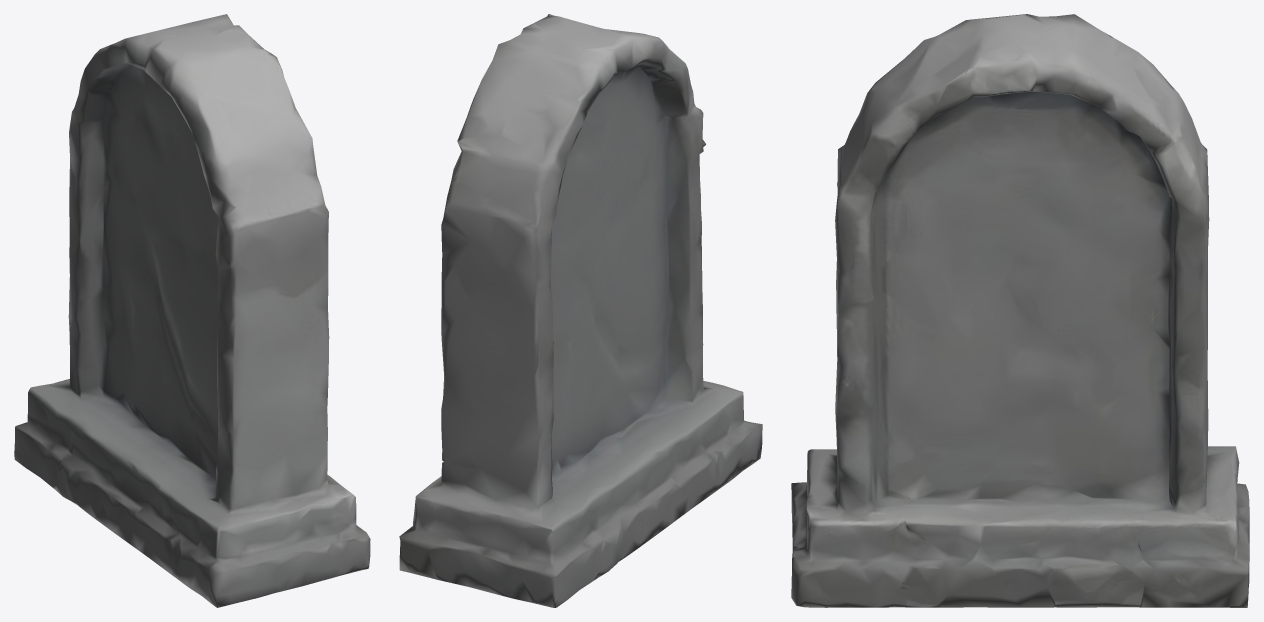
File: tombstone.glb
3 views of the same model, side by side, from view 1: azimuth 30°, elevation 25°; view 2: azimuth 150°, elevation 25°; view 3: azimuth 270°, elevation 25° (orthographic). The views are drawn at different scales.
Visible parts, largest first — view 1: tripo_node_c069572d-8ca7-4a8e-a1c8-4a0e09f108d4; view 2: tripo_node_c069572d-8ca7-4a8e-a1c8-4a0e09f108d4; view 3: tripo_node_c069572d-8ca7-4a8e-a1c8-4a0e09f108d4.
Part boxes in pixels (bbox=[...]): tripo_node_c069572d-8ca7-4a8e-a1c8-4a0e09f108d4: bbox=[14, 14, 370, 607]; tripo_node_c069572d-8ca7-4a8e-a1c8-4a0e09f108d4: bbox=[399, 14, 762, 607]; tripo_node_c069572d-8ca7-4a8e-a1c8-4a0e09f108d4: bbox=[791, 14, 1249, 607].
Bounding box in the file's own units: 0.3548 × 1 × 0.7789.
1 material, 1 textured.
